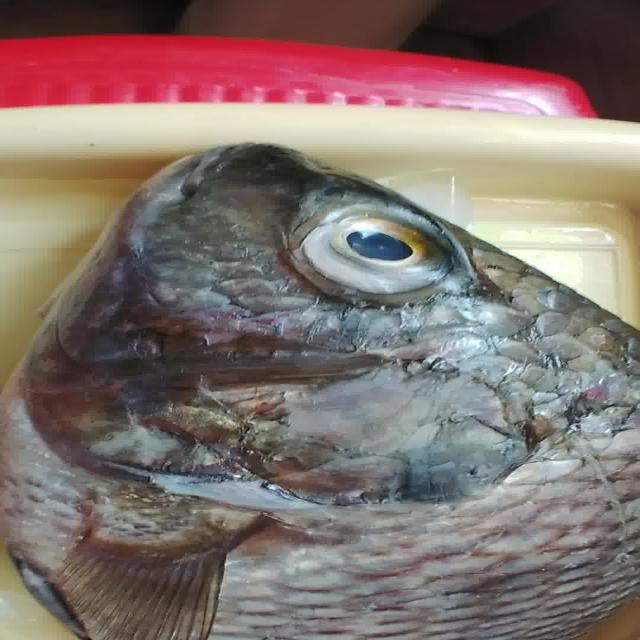Fresh: (270, 194, 496, 314)
